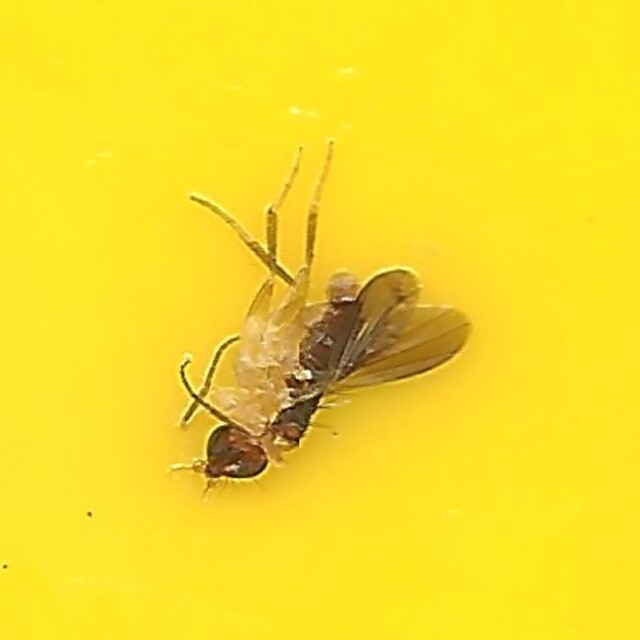Brachycera: (166, 146, 474, 494)
